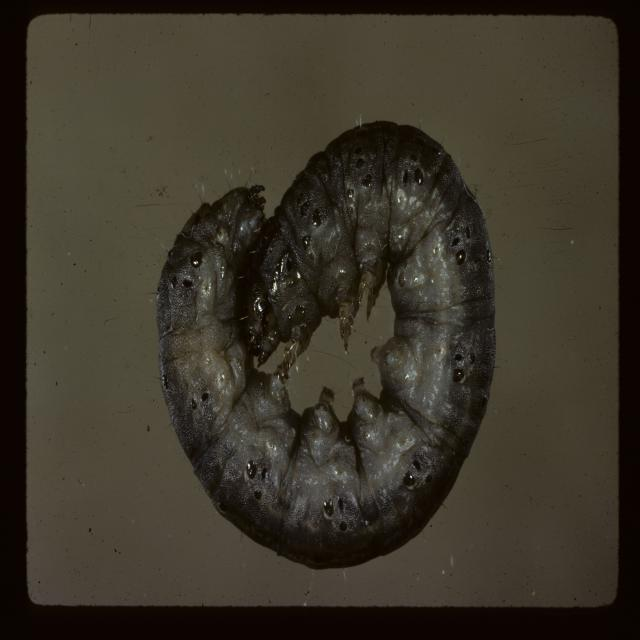Cutworm: (151, 113, 497, 576)
